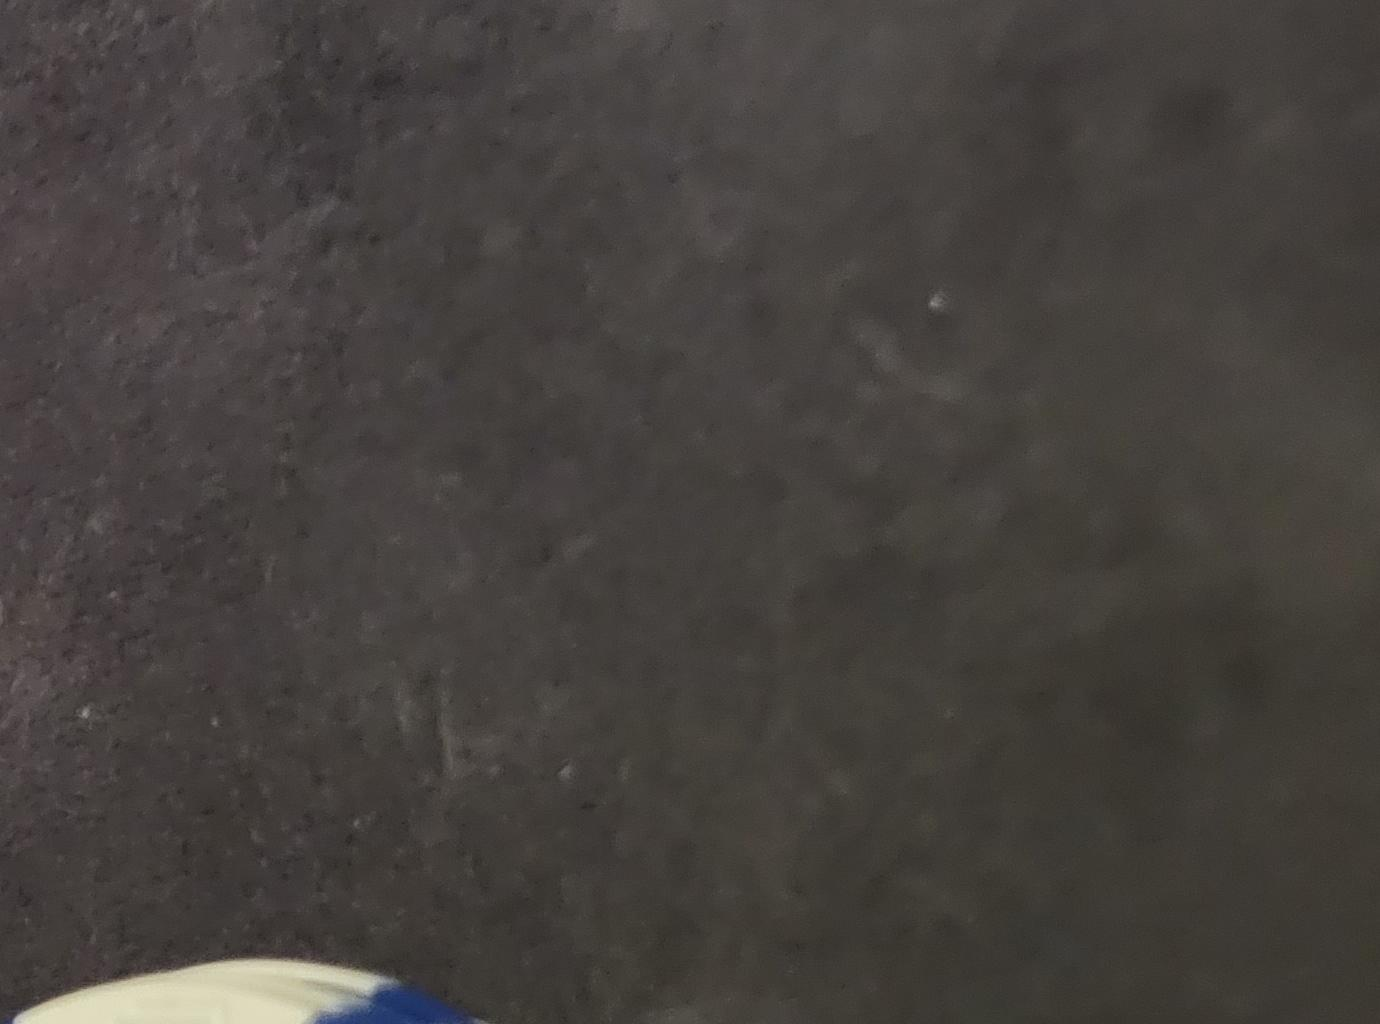Chip: (1, 210, 414, 1024)
